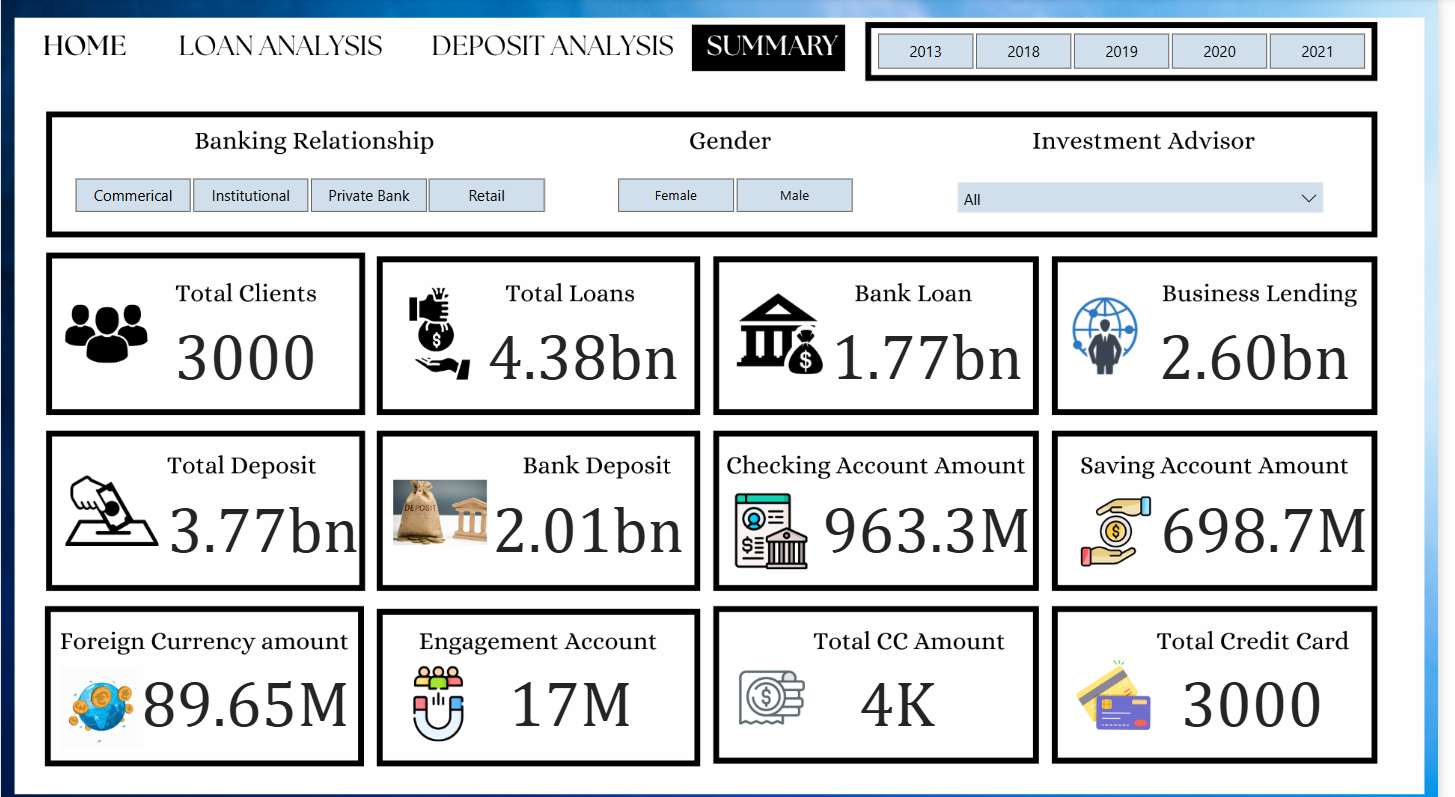

What the dashboard file says about the page in this screenshot:
{"tool":"powerbi","page":{"name":"Summary","canvas":[1280,720],"ordinal":3},"visuals":[{"type":"card","fields":{"Values":["CountNonNull(Banking.Client ID)"]},"box":[118,281.3,200.3,65.9],"z":0},{"type":"slicer","fields":{"Values":["Banking.BRId"]},"box":[39.8,153.7,467.9,43.9],"z":1000},{"type":"slicer","fields":{"Values":["Banking.GenderId"]},"box":[522.8,153.7,259.3,43.9],"z":2000},{"type":"slicer","fields":{"Values":["Banking.IAId"]},"box":[841.2,153.7,345.8,43.9],"z":2001},{"type":"slicer","fields":{"Values":["Banking.Year of joining"]},"box":[754.7,24.7,484.4,45.3],"z":2002},{"type":"card","fields":{"Values":["Banking.Total Loan"]},"box":[418.5,281.3,200.3,65.9],"z":2003},{"type":"card","fields":{"Values":["Sum(Banking.Bank Loans)"]},"box":[724.5,281.3,200.3,65.9],"z":2004},{"type":"card","fields":{"Values":["Sum(Banking.Business Lending)"]},"box":[1016.8,281.3,200.3,65.9],"z":2005},{"type":"card","fields":{"Values":["Banking.Total Deposit"]},"box":[133.1,436.4,200.3,65.9],"z":2006},{"type":"card","fields":{"Values":["Sum(Banking.Bank Deposits)"]},"box":[422.6,436.4,200.3,65.9],"z":2007},{"type":"card","fields":{"Values":["Sum(Banking.Checking Accounts)"]},"box":[724.5,436.4,200.3,65.9],"z":2008},{"type":"card","fields":{"Values":["Sum(Banking.Saving Accounts)"]},"box":[1025,436.4,200.3,65.9],"z":2009},{"type":"card","fields":{"Values":["Sum(Banking.Foreign Currency Account)"]},"box":[118,591.4,200.3,65.9],"z":2010},{"type":"card","fields":{"Values":["Banking.Engagment Length"]},"box":[407.5,591.4,200.3,65.9],"z":2011},{"type":"card","fields":{"Values":["Banking.Total CC Amount"]},"box":[698.5,591.4,200.3,65.9],"z":2012},{"type":"card","fields":{"Values":["CountNonNull(Banking.Amount of Credit Cards)"]},"box":[1014.1,591.4,200.3,65.9],"z":2013}]}

Visuals, with their boxes in screenshot pixels (x1, y1, x2, y2), scaled from the page's 1280x720 canvas onto the 1455x797 screenshot:
card - CountNonNull(Banking.Client ID): left=134, top=311, right=362, bottom=384
slicer - Banking.BRId: left=45, top=170, right=577, bottom=219
slicer - Banking.GenderId: left=594, top=170, right=889, bottom=219
slicer - Banking.IAId: left=956, top=170, right=1349, bottom=219
slicer - Banking.Year of joining: left=858, top=27, right=1409, bottom=77
card - Banking.Total Loan: left=476, top=311, right=703, bottom=384
card - Sum(Banking.Bank Loans): left=824, top=311, right=1051, bottom=384
card - Sum(Banking.Business Lending): left=1156, top=311, right=1384, bottom=384
card - Banking.Total Deposit: left=151, top=483, right=379, bottom=556
card - Sum(Banking.Bank Deposits): left=480, top=483, right=708, bottom=556
card - Sum(Banking.Checking Accounts): left=824, top=483, right=1051, bottom=556
card - Sum(Banking.Saving Accounts): left=1165, top=483, right=1393, bottom=556
card - Sum(Banking.Foreign Currency Account): left=134, top=655, right=362, bottom=728
card - Banking.Engagment Length: left=463, top=655, right=691, bottom=728
card - Banking.Total CC Amount: left=794, top=655, right=1022, bottom=728
card - CountNonNull(Banking.Amount of Credit Cards): left=1153, top=655, right=1380, bottom=728
